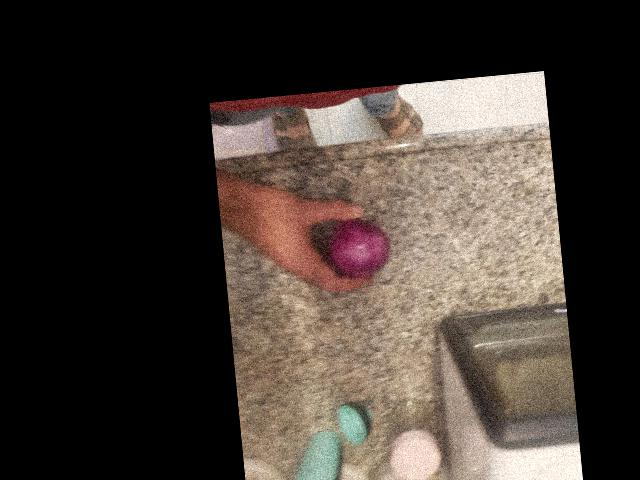onion: (300, 193, 389, 280)
